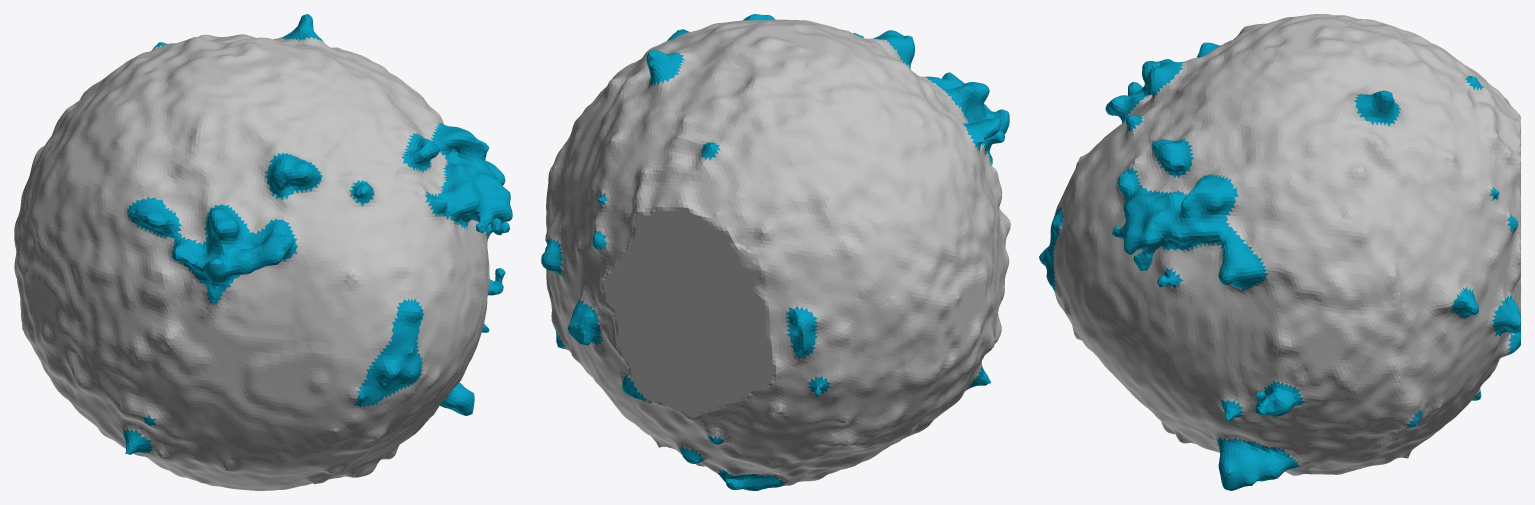
The picture shows the model from 3 angles, left to right: view 1: azimuth 30°, elevation 25°; view 2: azimuth 150°, elevation 25°; view 3: azimuth 270°, elevation 25°; orthographic projection. The views are drawn at different scales.
Size of the model in its own units: 94.44 by 88.13 by 93.17.
